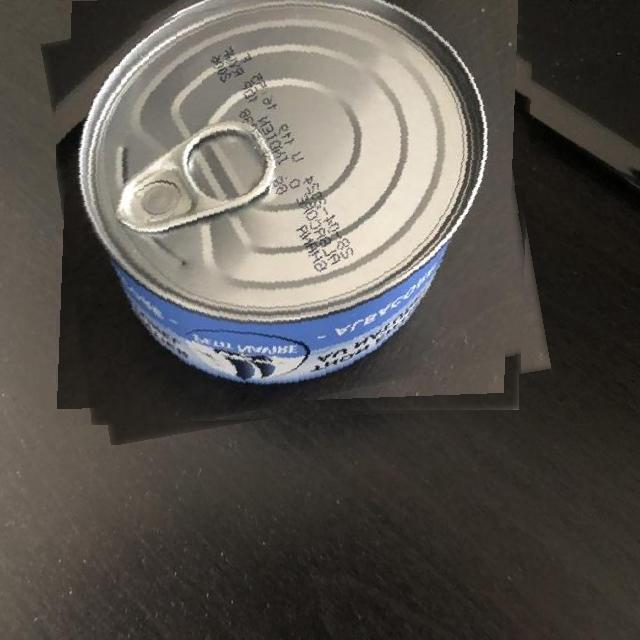recyclable: (56, 0, 535, 427)
